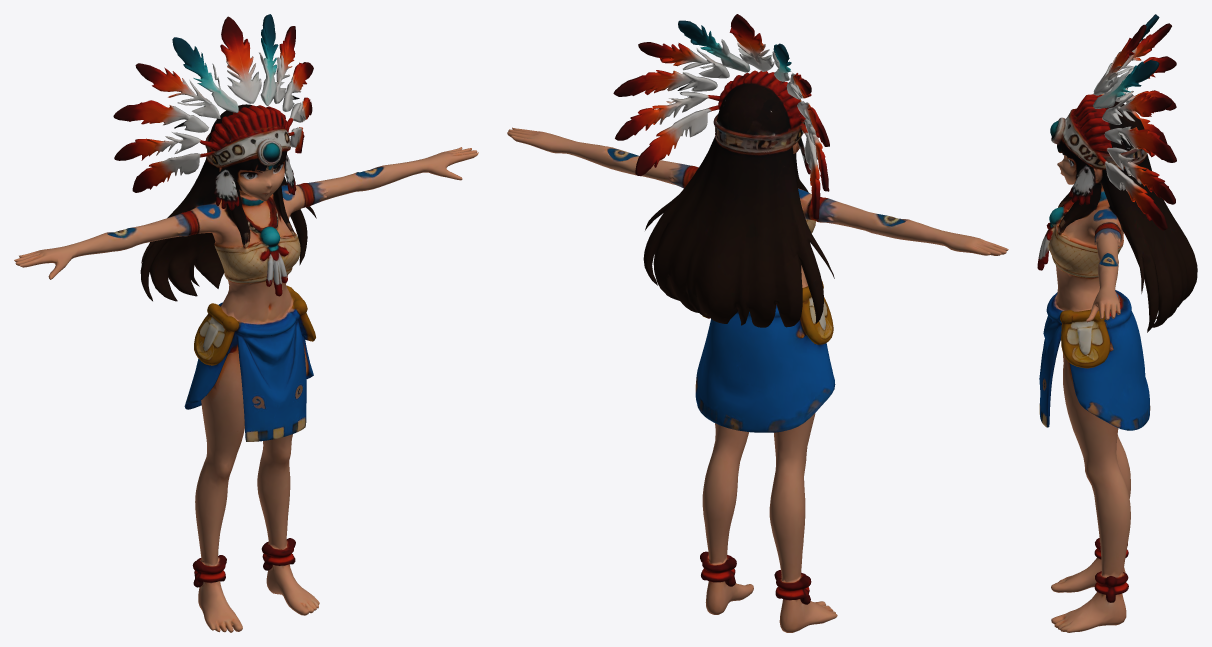
Rendered from lifa.fbx.
3 renders of one model, left to right at view 1: azimuth 30°, elevation 25°; view 2: azimuth 150°, elevation 25°; view 3: azimuth 270°, elevation 25°, orthographic. The views are drawn at different scales.
Visible parts, largest first — view 1: tripo_node_f6e9d7fa; view 2: tripo_node_f6e9d7fa; view 3: tripo_node_f6e9d7fa.
Boxes of the visible parts, x1,y1,x2,y2 form: tripo_node_f6e9d7fa: (14,14,478,632); tripo_node_f6e9d7fa: (507,14,1008,632); tripo_node_f6e9d7fa: (1037,14,1197,632).
Size of the model in its own units: 83.87 by 24.83 by 99.91.
1 material, 1 textured.
